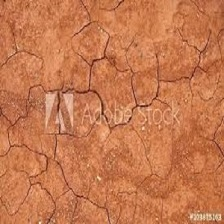clay_soil: (9, 23, 207, 211)
